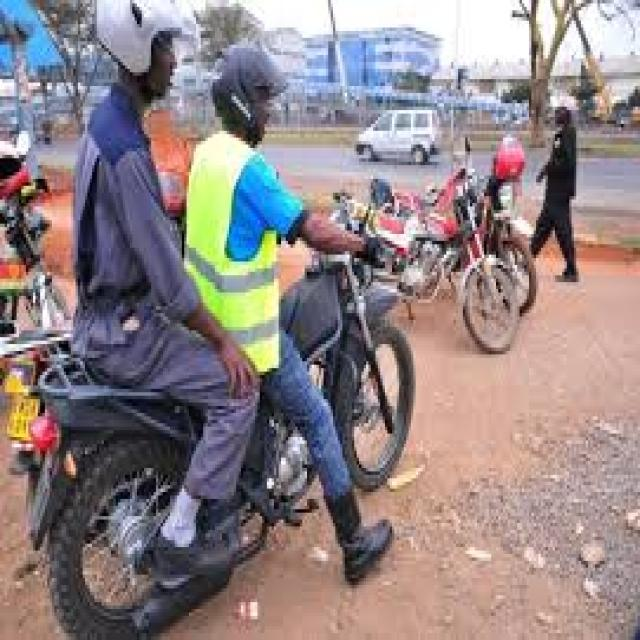bodaboda: (2, 172, 431, 640)
